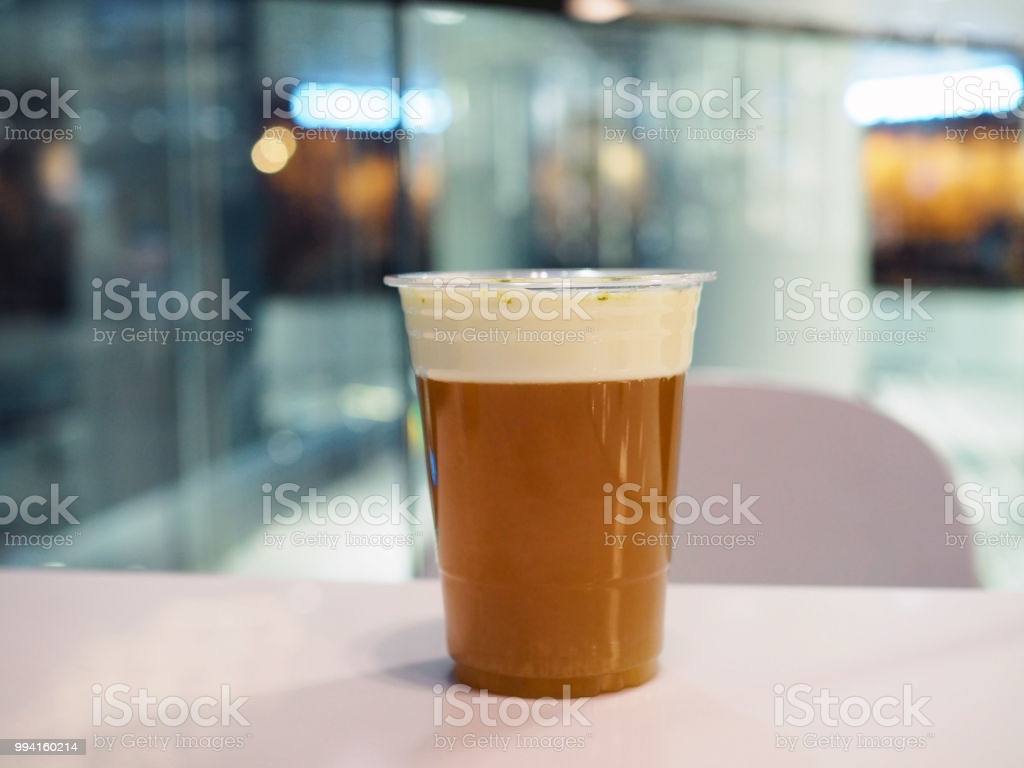plastic_bottle: (377, 253, 725, 709)
